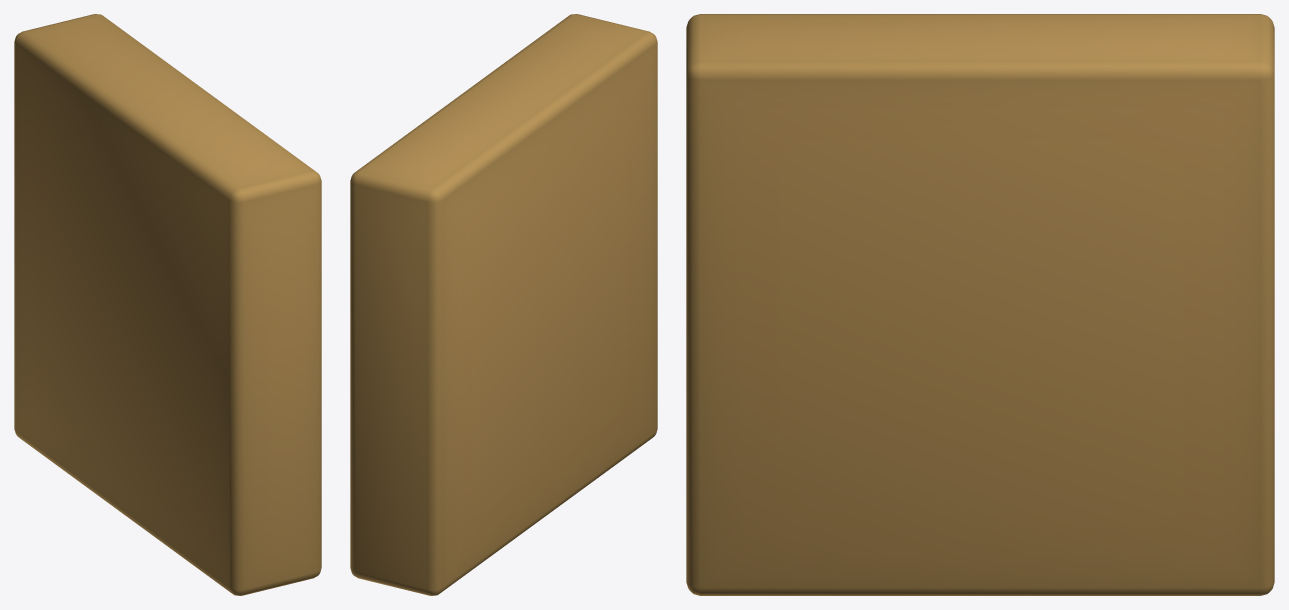
Rendered from brushedbrass.glb.
3 views of the same model, side by side, from view 1: azimuth 30°, elevation 25°; view 2: azimuth 150°, elevation 25°; view 3: azimuth 270°, elevation 25° (orthographic). The views are drawn at different scales.
Visible parts, largest first — view 1: Brushed_Brass; view 2: Brushed_Brass; view 3: Brushed_Brass.
Boxes of the visible parts, bbox=[...] form: Brushed_Brass: bbox=[14, 14, 321, 595]; Brushed_Brass: bbox=[350, 14, 657, 595]; Brushed_Brass: bbox=[686, 14, 1274, 595].
Bounding box in the file's own units: 0.9106 × 3.9 × 3.9.
Materials: 1 (1 with a texture image).
